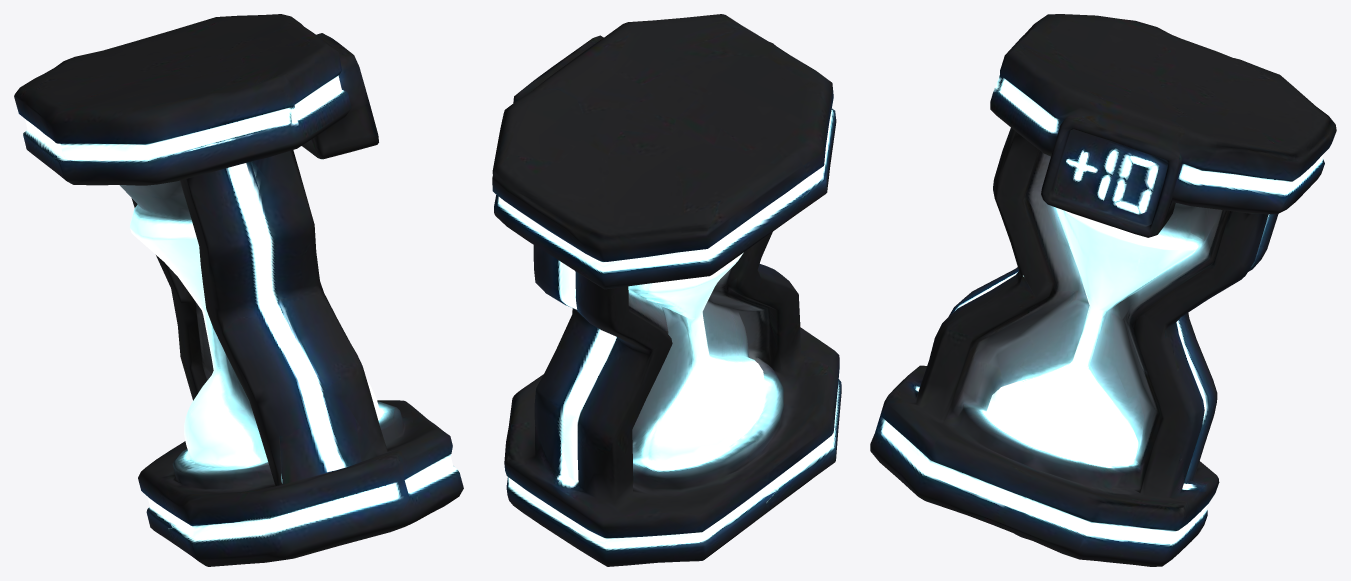
The model's file is bonus_time.glb.
The picture shows the model from 3 angles, left to right: view 1: azimuth 30°, elevation 25°; view 2: azimuth 150°, elevation 25°; view 3: azimuth 270°, elevation 25°; orthographic projection. The views are drawn at different scales.
Parts seen in each view (by area): view 1: tripo_node_ff51678e-2513-42bb-8efd-777df831f430; view 2: tripo_node_ff51678e-2513-42bb-8efd-777df831f430; view 3: tripo_node_ff51678e-2513-42bb-8efd-777df831f430.
Boxes of the visible parts, x1=… form: tripo_node_ff51678e-2513-42bb-8efd-777df831f430: x1=14, y1=14, x2=463, y2=566; tripo_node_ff51678e-2513-42bb-8efd-777df831f430: x1=492, y1=14, x2=841, y2=566; tripo_node_ff51678e-2513-42bb-8efd-777df831f430: x1=870, y1=14, x2=1336, y2=566.
Bounding box in the file's own units: 0.6965 × 0.981 × 0.8742.
1 material, 1 textured.
